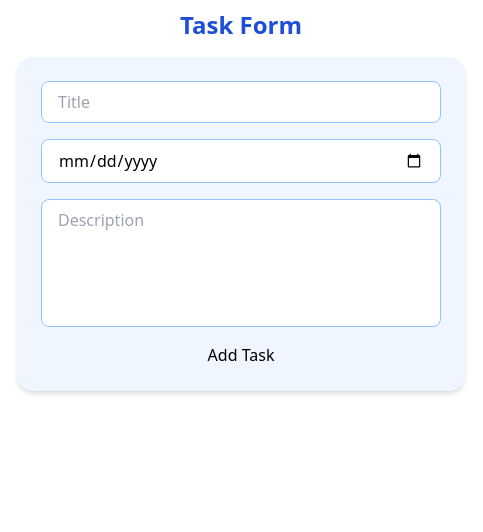
Test: TaskForm Component › shows validation errors for invalid inputs
In the date field with placeholder "Due Date": x=241, y=161 [41,139,441,183], type "2020-01-01"
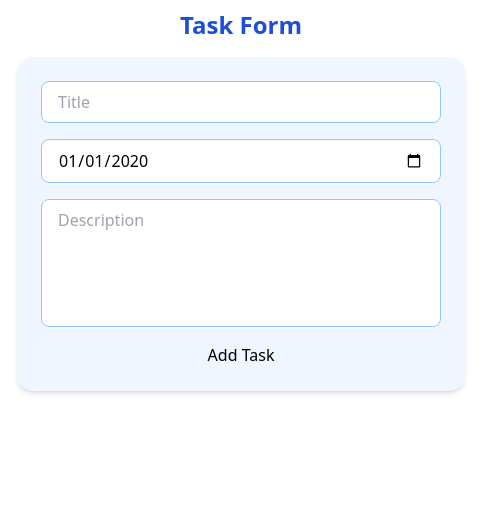
Click the button "Add Task": x=241, y=355 [41,343,441,367]
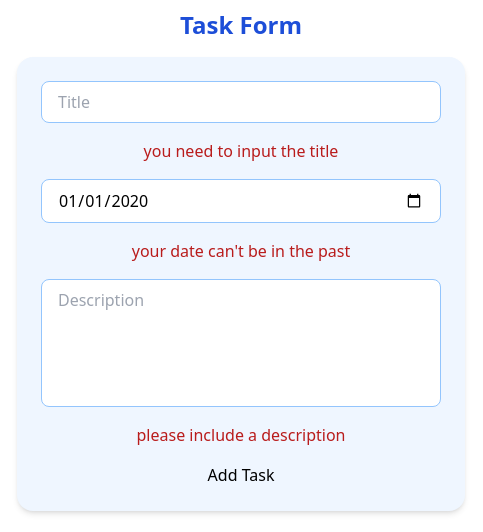
expect the text "you need to input the title" is shown: met, box [144,140,338,162]
expect the text "please include a description" is shown: met, box [136,424,346,446]
expect the text "your date can't be in the past" is shown: met, box [132,240,350,262]
